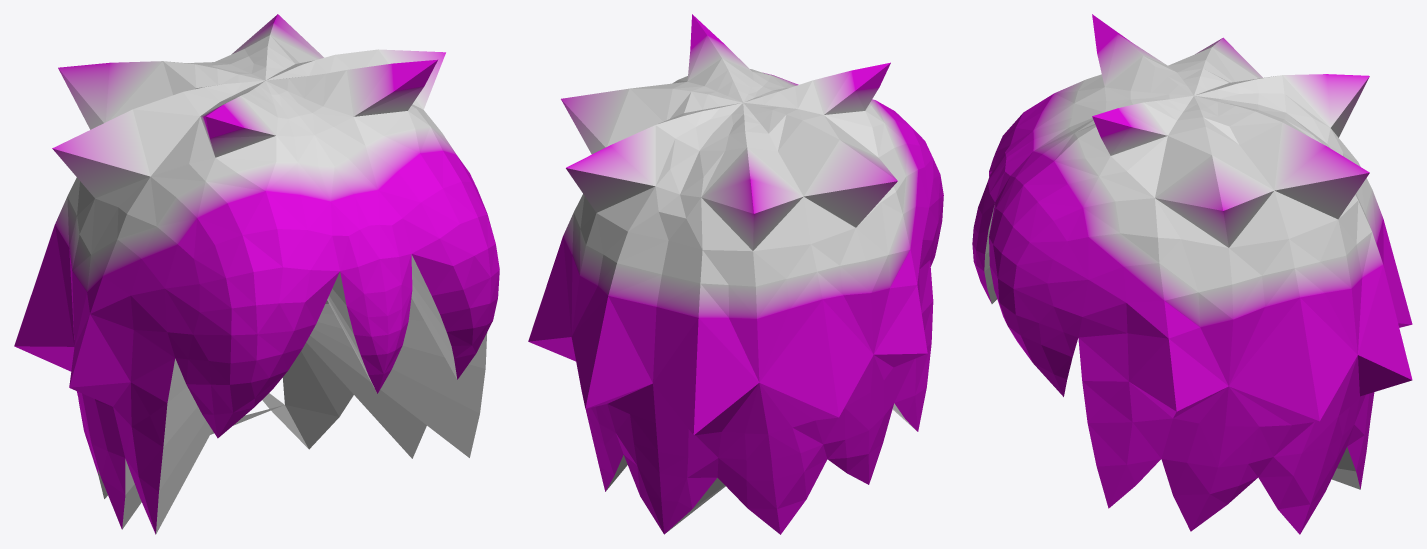
File: hair_76.glb
The picture shows the model from 3 angles, left to right: view 1: azimuth 30°, elevation 25°; view 2: azimuth 150°, elevation 25°; view 3: azimuth 270°, elevation 25°; orthographic projection. The views are drawn at different scales.
Parts seen in each view (by area): view 1: shape; view 2: shape; view 3: shape.
Part boxes in pixels (<box>): shape: <box>14,14,499,534</box>; shape: <box>528,14,943,534</box>; shape: <box>972,14,1412,534</box>.
Bounding box in the file's own units: 70.7 × 77.26 × 72.57.
